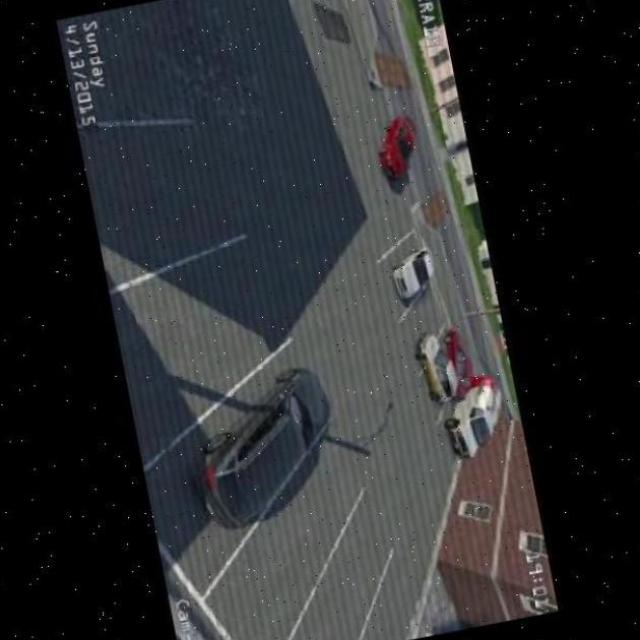accident: (410, 312, 506, 444)
